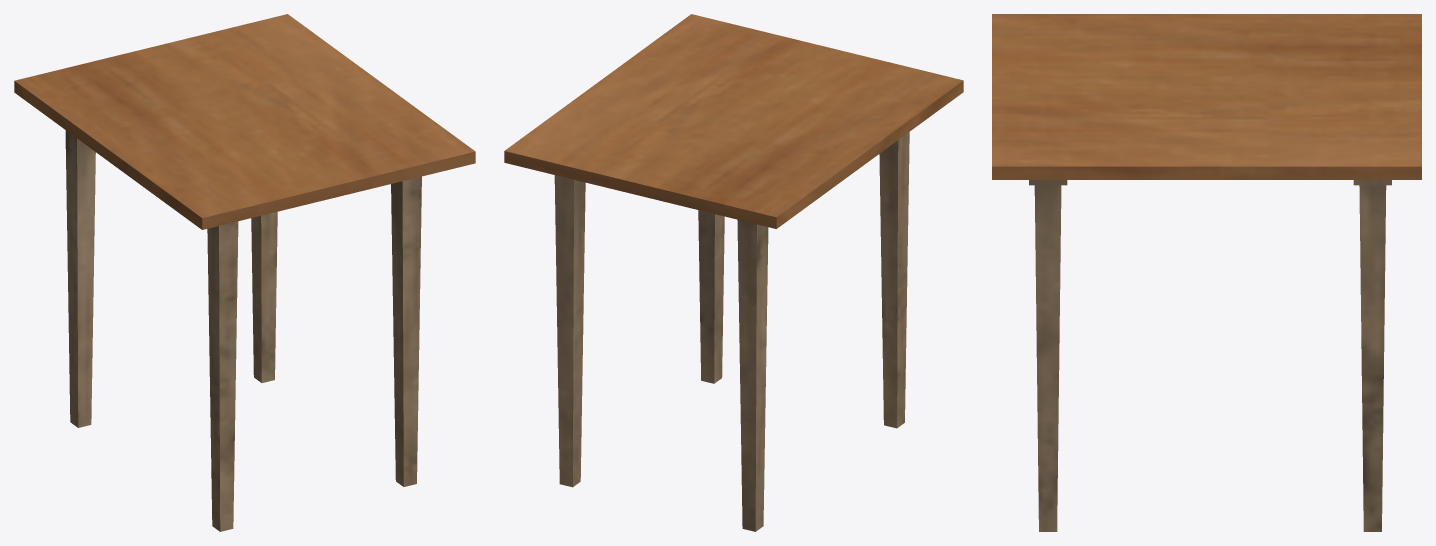
File: stool_4.FBX
3 renders of one model, left to right at view 1: azimuth 30°, elevation 25°; view 2: azimuth 150°, elevation 25°; view 3: azimuth 270°, elevation 25°, orthographic. The views are drawn at different scales.
Visible parts, largest first — view 1: stool_4; view 2: stool_4; view 3: stool_4.
Part boxes in pixels (bbox=[...]): stool_4: bbox=[14, 14, 475, 531]; stool_4: bbox=[504, 14, 963, 531]; stool_4: bbox=[992, 14, 1421, 531].
Size of the model in its own units: 17.44 by 20.61 by 20.76.
